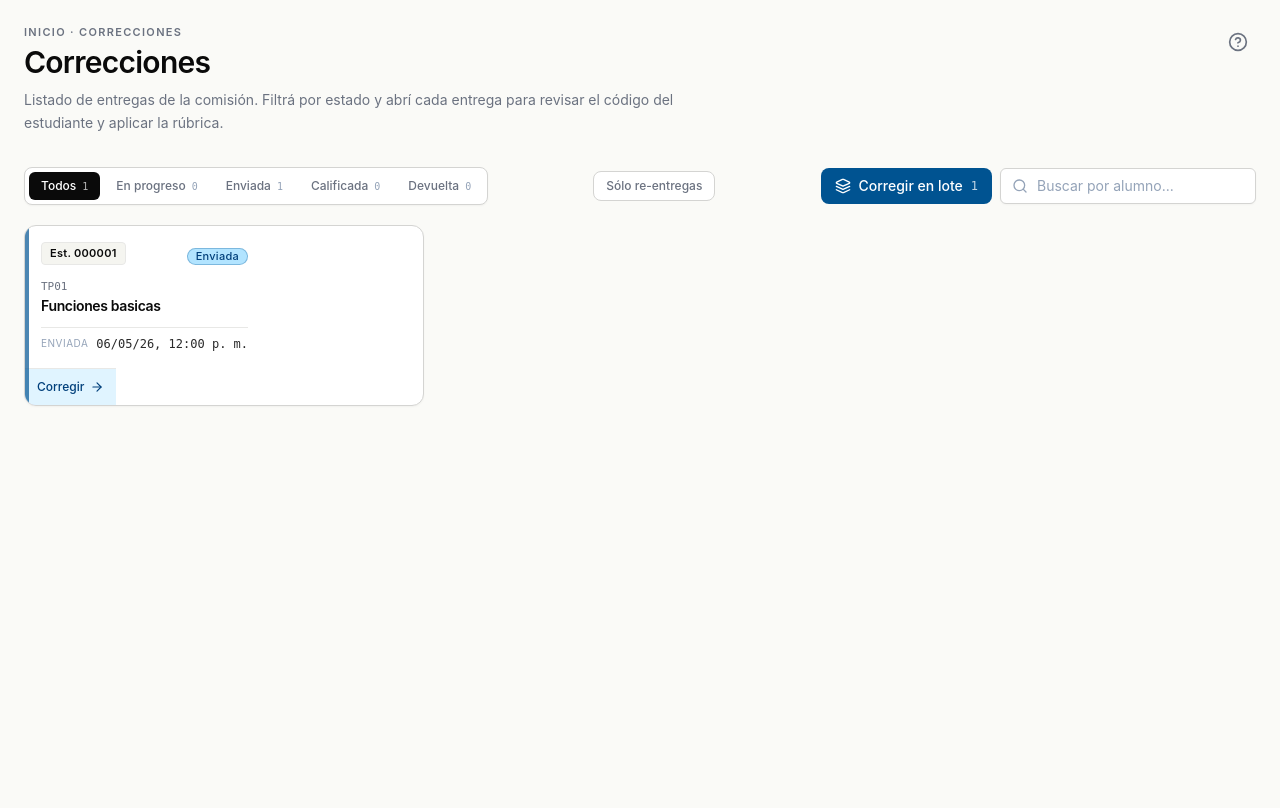
Test: CorreccionesView — GradingFormView › RUBRICA-AUTOCOMPLETE: 'Usar como base' autocompleta los puntajes por criterio, no solo la nota
Click the button with test id "entrega-drill-btn". click: (83, 254)
box: [24,224,424,406]
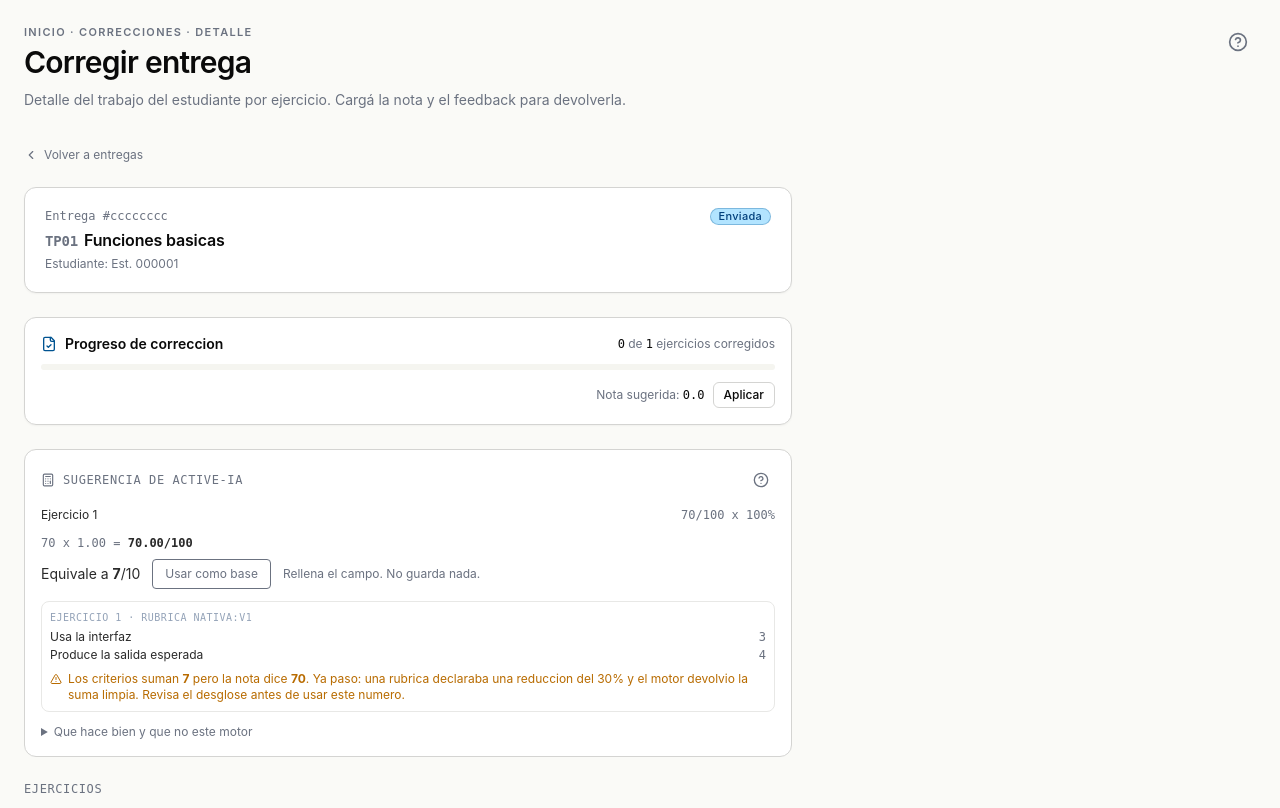
Expected: the button with test id "resumen-usar-como-base" is shown
Click the button with test id "resumen-usar-como-base". click: (212, 574)
box: [152,559,271,589]
(page scrolled)
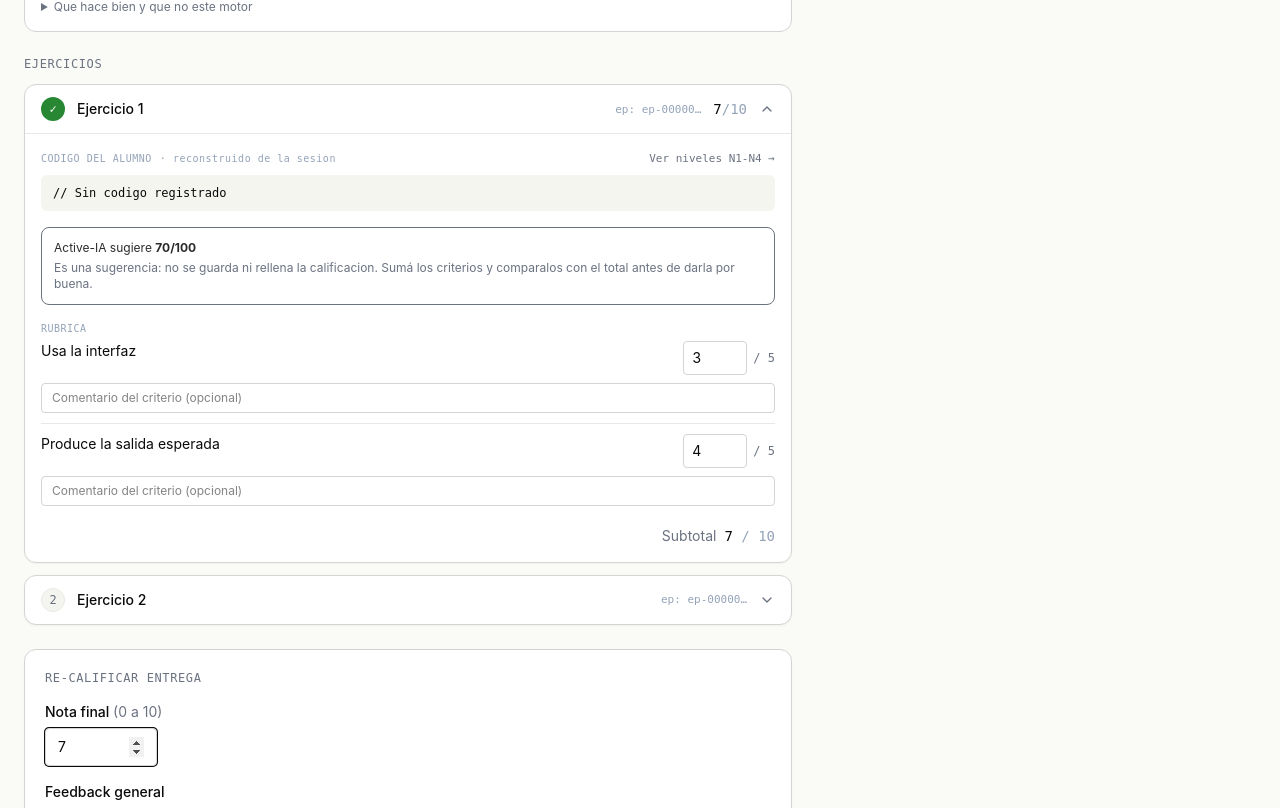
Expected: the number field with test id "criterio-puntaje-ej-1#0" holds "3", [683,341,747,375]
Expected: the number field with test id "criterio-puntaje-ej-1#1" holds "4", [683,434,747,468]
